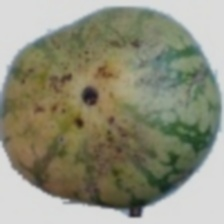watermelon: (29, 32, 221, 223)
